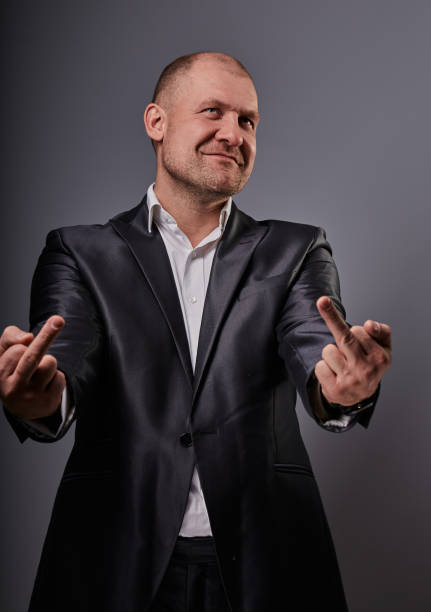insulting_gesture: (312, 294, 394, 407), (0, 312, 69, 429)
